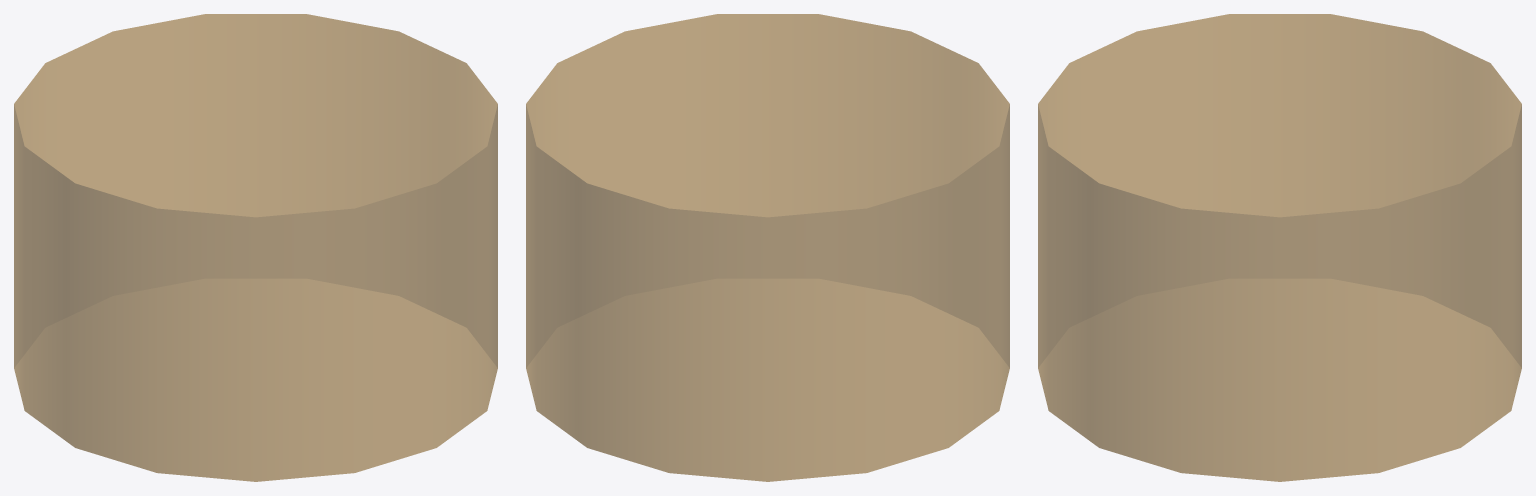
Rendered from table_ronde_pregraph.fbx.
3 views of the same model, side by side, from view 1: azimuth 30°, elevation 25°; view 2: azimuth 150°, elevation 25°; view 3: azimuth 270°, elevation 25° (orthographic).
Parts seen in each view (by area): view 1: table_ronde; view 2: table_ronde; view 3: table_ronde.
Part boxes in pixels (x1,y1,x2,y2): table_ronde: (14,14,497,481); table_ronde: (526,14,1009,481); table_ronde: (1038,14,1521,481).
Bounding box in the file's own units: 39.56 × 24 × 39.78.
